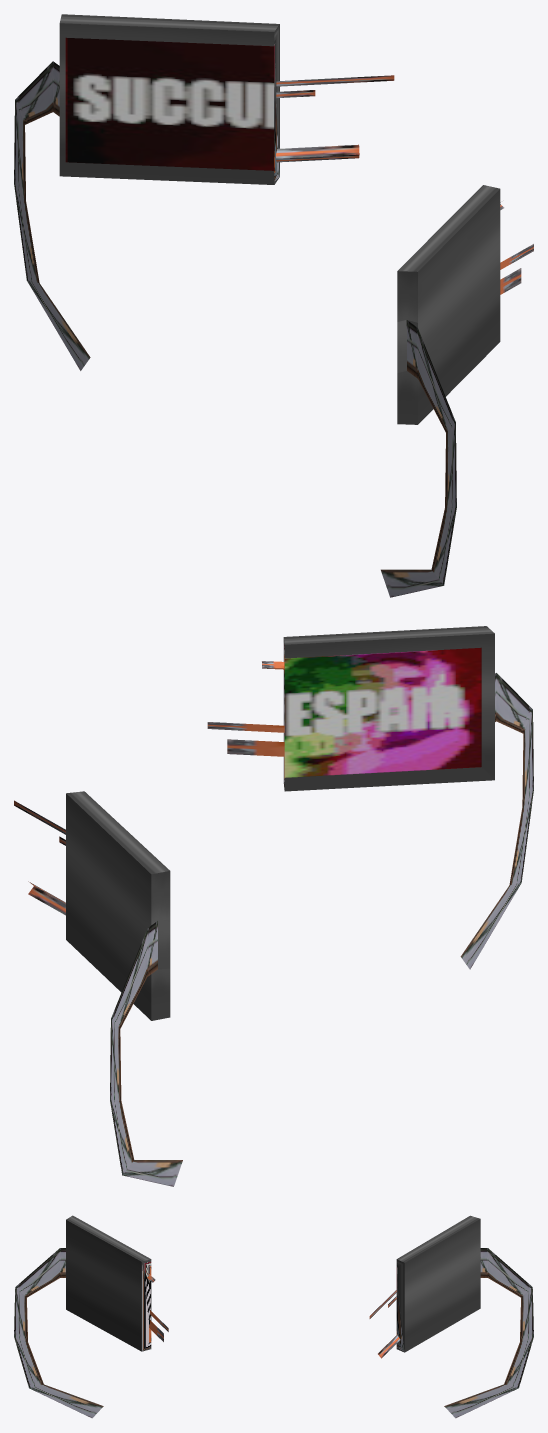
File: Billboard_Broken.fbx
3 renders of one model, top to bottom at view 1: azimuth 30°, elevation 25°; view 2: azimuth 150°, elevation 25°; view 3: azimuth 270°, elevation 25°, orthographic. The views are drawn at different scales.
Visible parts, largest first — view 1: newassets_billboard_broken; view 2: newassets_billboard_broken; view 3: newassets_billboard_broken.
Part boxes in pixels (x1=…): newassets_billboard_broken: x1=14, y1=14, x2=533, y2=597; newassets_billboard_broken: x1=14, y1=626, x2=533, y2=1186; newassets_billboard_broken: x1=14, y1=1215, x2=533, y2=1418.
Size of the model in its own units: 2613 by 3415 by 8033.
Materials: 2 (2 with a texture image).
